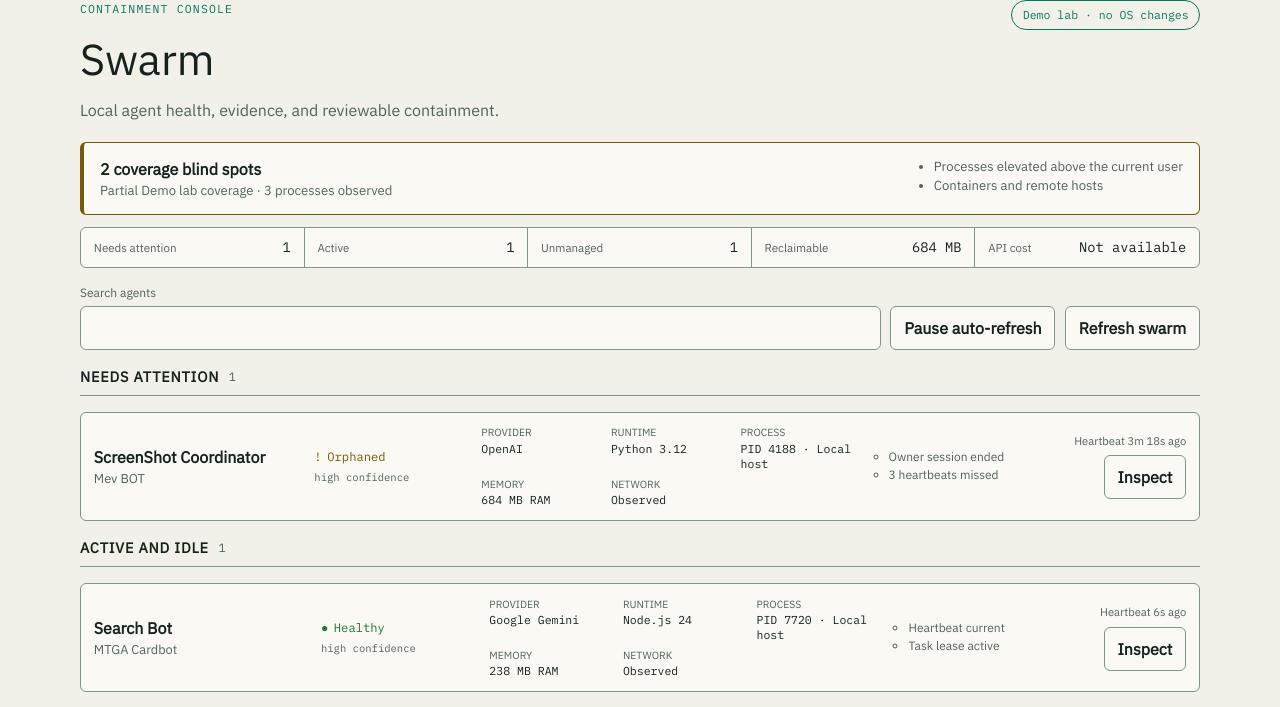
Swarm radar › requires the exact engine-bound PID and instance token before a force stop can execute
Click the button with aria-label "inspect ScreenShot Coordinator" at [1145, 477], box left=1104, top=455, right=1186, bottom=499
(page scrolled)
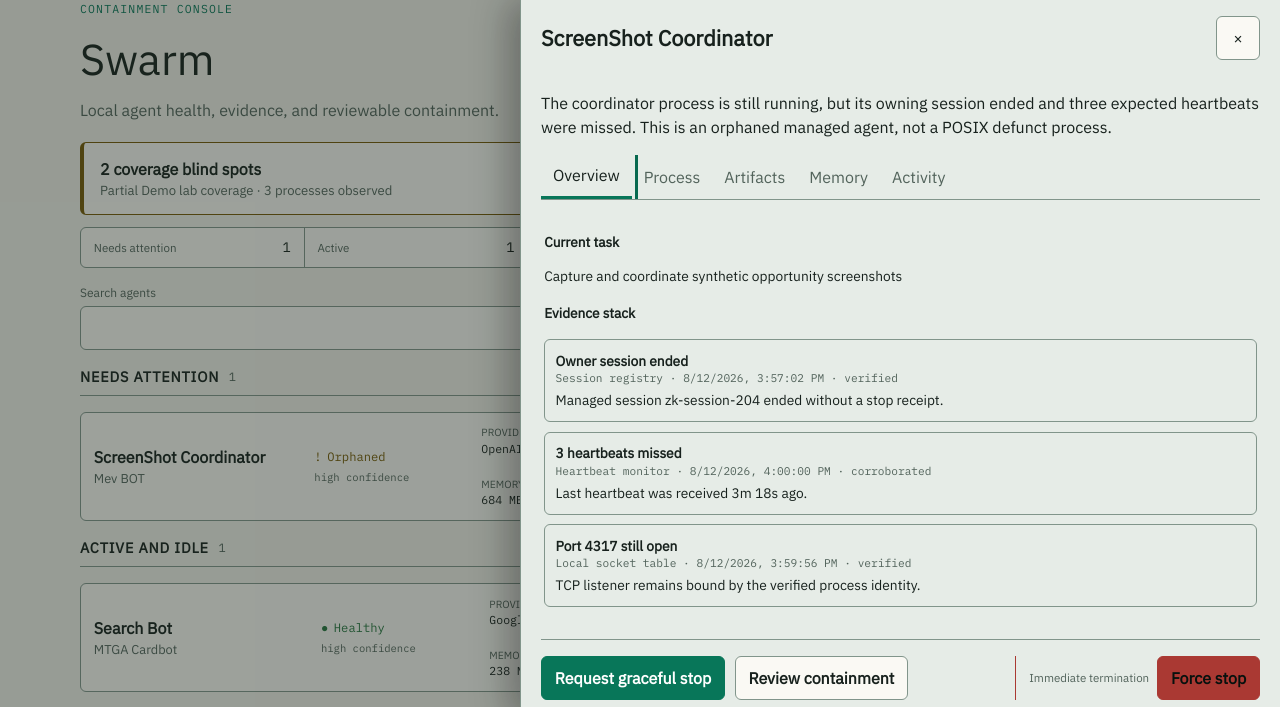
Click the button "Review containment" at [821, 678], box left=735, top=656, right=908, bottom=700
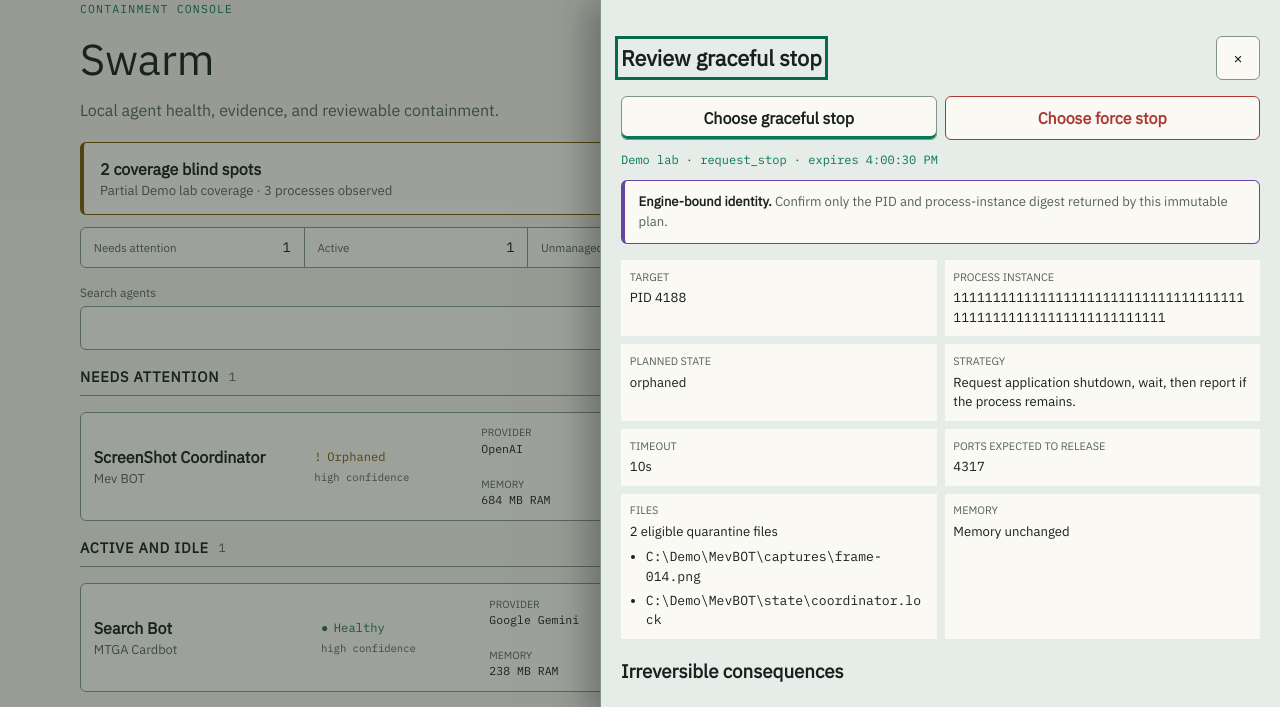
Click the button "Choose force stop" at [1102, 118], box left=944, top=96, right=1260, bottom=140
(page scrolled)
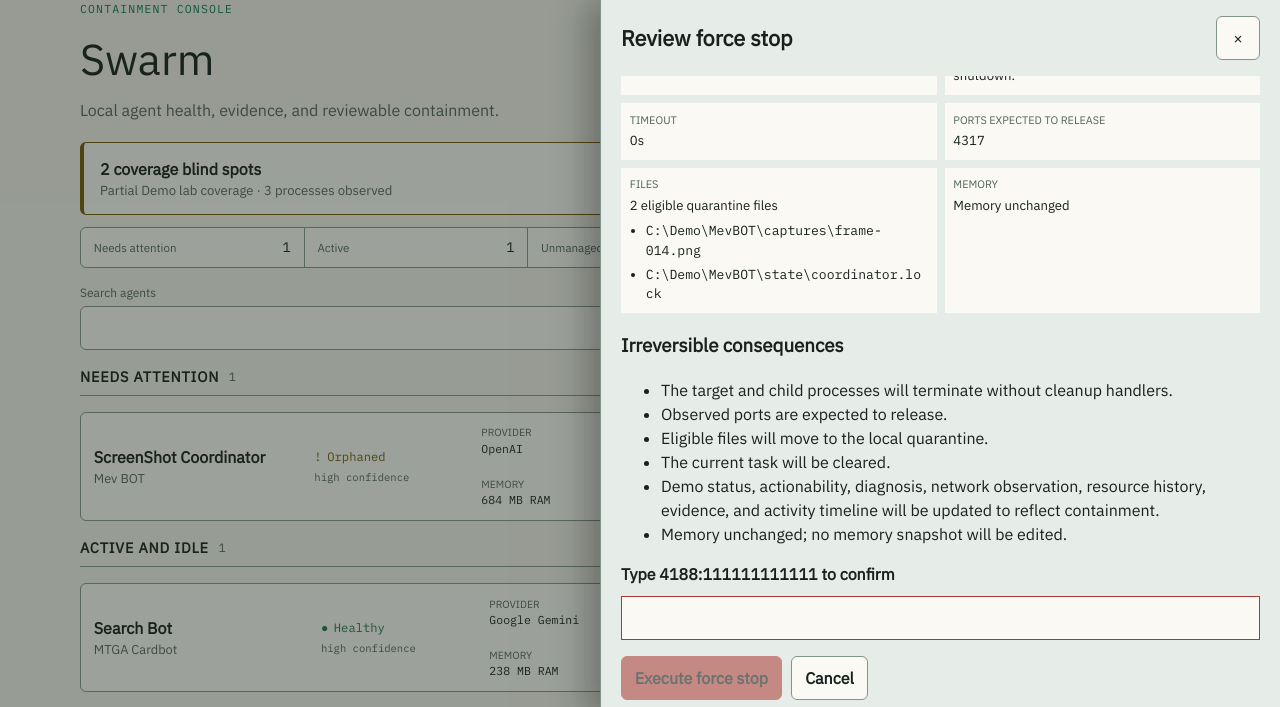
Result: the text "C:\\Demo\\MevBOT\\captures\\frame-014.png" is shown at left=646, top=222, right=882, bottom=259
Result: the text "C:\\Demo\\MevBOT\\state\\coordinator.lock" is shown at left=646, top=266, right=921, bottom=302
Result: the list item "Demo status, actionability, diagnosis, network observation, resource history, evidence, and activity timeline" is shown at left=661, top=476, right=1206, bottom=520
Type "4188:111111111111" into the field labelled "Type 4188:111111111111 to confirm" at [940, 618], box left=621, top=596, right=1260, bottom=640
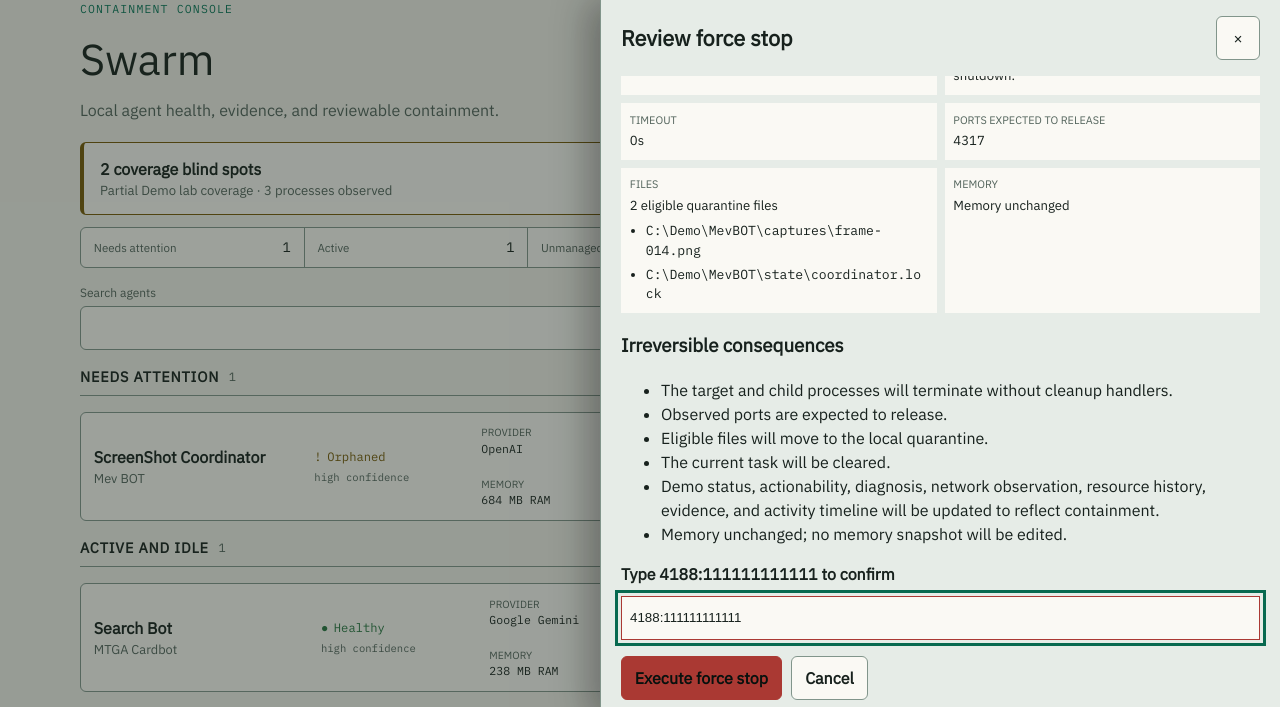
Result: the button "Execute force stop" is enabled at left=621, top=656, right=782, bottom=700
